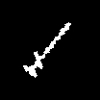double_crochet: (23, 23, 70, 76)
